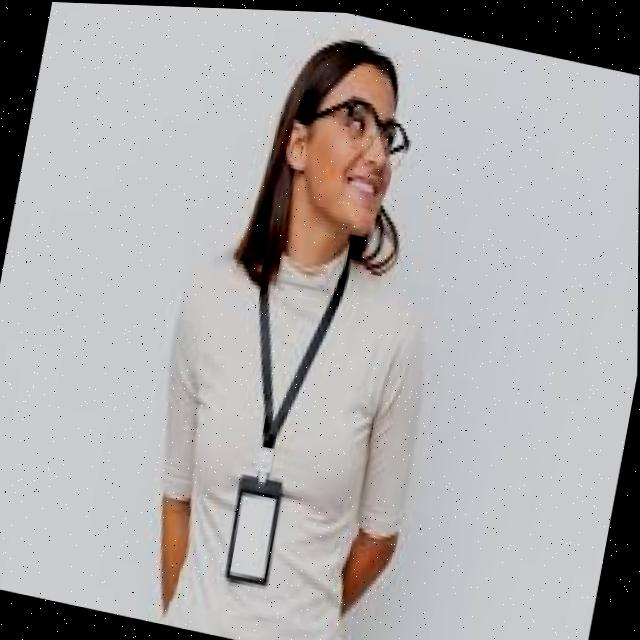id_card: (199, 256, 345, 605)
